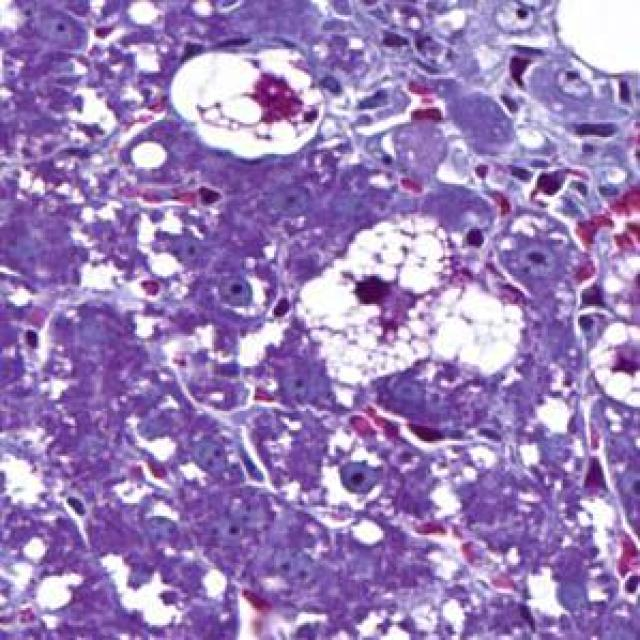ballooning: (297, 205, 531, 411), (165, 45, 334, 163)
